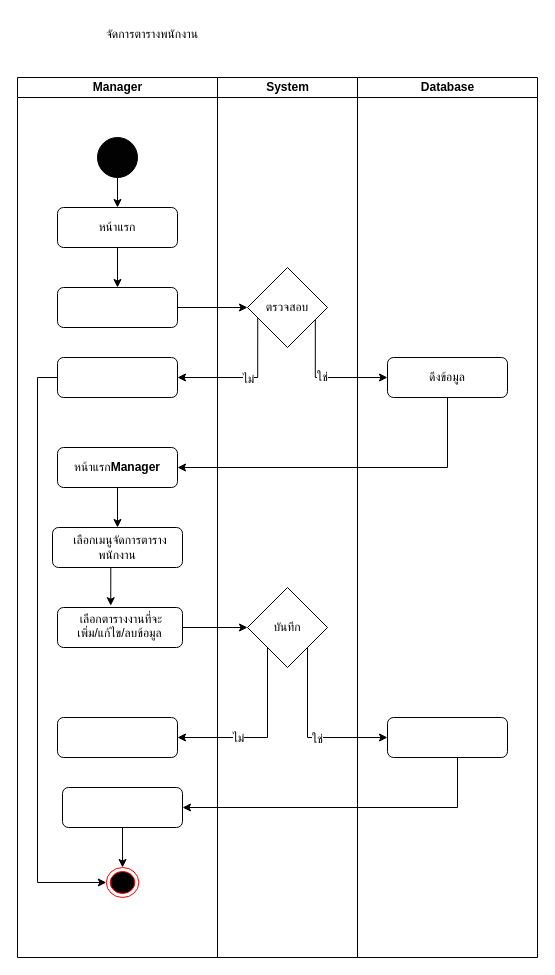
The diagram is 555 pixels wide and 975 high, and some of its shapes have lost their labels. The centre of each missing label's shape, as x and y in pixels:
login: point 117,307
กลับไปหน้า จัดการตารางพนักงาน: point 122,807
กลับไปหน้าเข้าสู่ระบบ: point 117,377
หากข้อมูลซ้ำ ระบบจะแจ้งเตือน: point 117,737
เก็บข้อมูล: point 447,737
